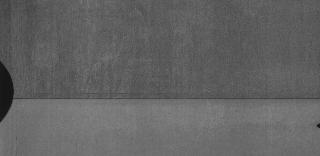punching hole: (314, 124, 320, 128)
welding line: (11, 92, 319, 104)
